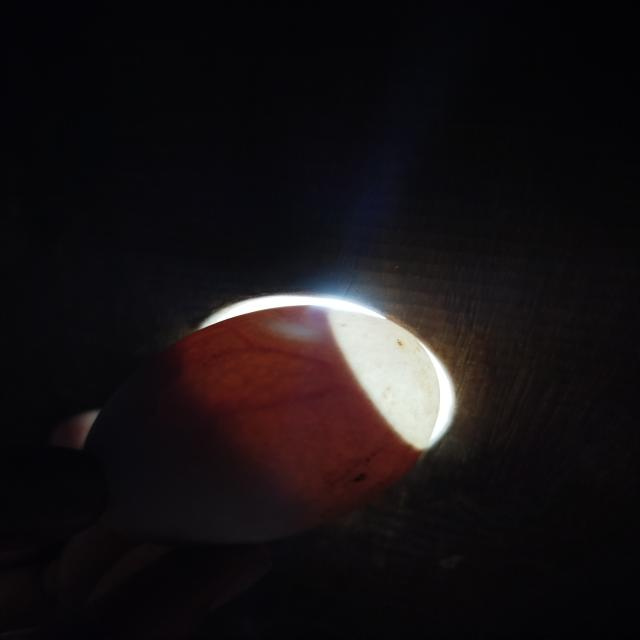Embriao: (127, 350, 300, 544)
